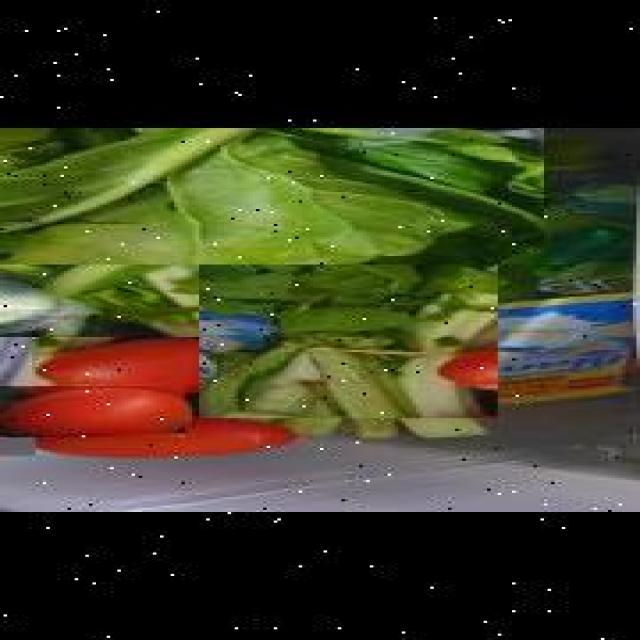cucumber: (0, 337, 121, 457)
pak_choi: (194, 128, 492, 418), (0, 128, 540, 264)
tomato: (28, 337, 256, 393), (18, 418, 295, 459), (0, 386, 181, 437)
